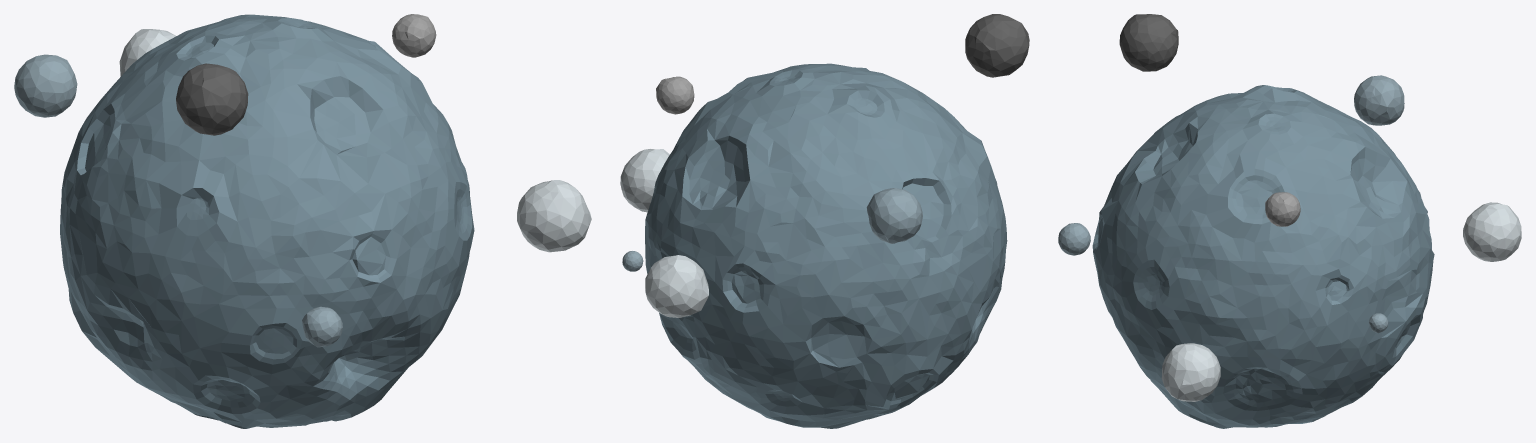
File: Planet_49.glb
3 renders of one model, left to right at view 1: azimuth 30°, elevation 25°; view 2: azimuth 150°, elevation 25°; view 3: azimuth 270°, elevation 25°, orthographic. The views are drawn at different scales.
Visible parts, largest first — view 1: Planet_49; view 2: Planet_49; view 3: Planet_49.
Boxes of the visible parts, left/top/right/bottom form: Planet_49: left=14, top=14, right=591, bottom=428; Planet_49: left=620, top=14, right=1029, bottom=428; Planet_49: left=1058, top=14, right=1521, bottom=428.
Size of the model in its own units: 25.43 by 23 by 27.67.
Materials: 1 (1 with a texture image).
